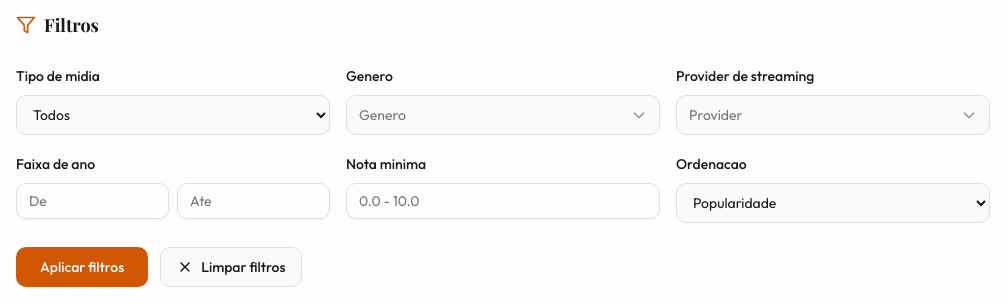
Test case: SearchFilters › validates year range (from must be <= to)
Type "2020" into the number field with placeholder "De". click: (92, 201)
box: [16, 183, 169, 219]
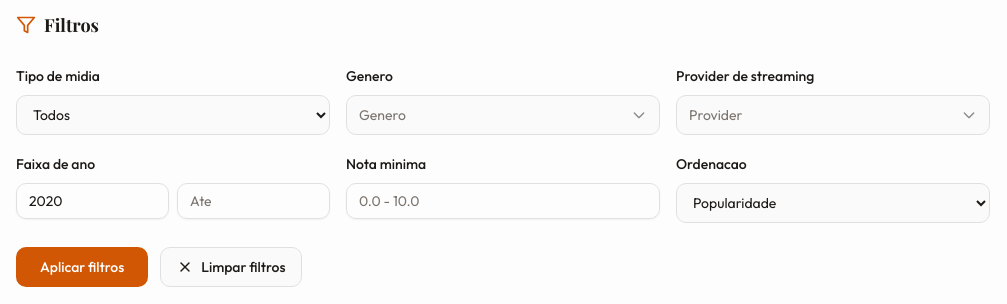
Type "2010" into the number field with placeholder "Ate". click: (254, 201)
box: [177, 183, 330, 219]
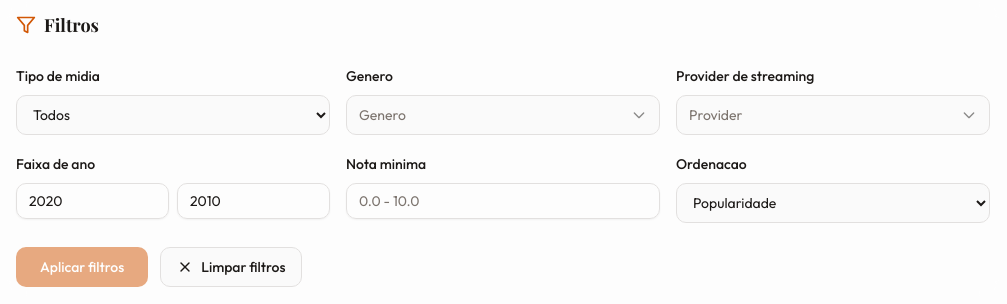
expect the button "Aplicar filtros" is disabled: met, box [16, 247, 148, 287]
